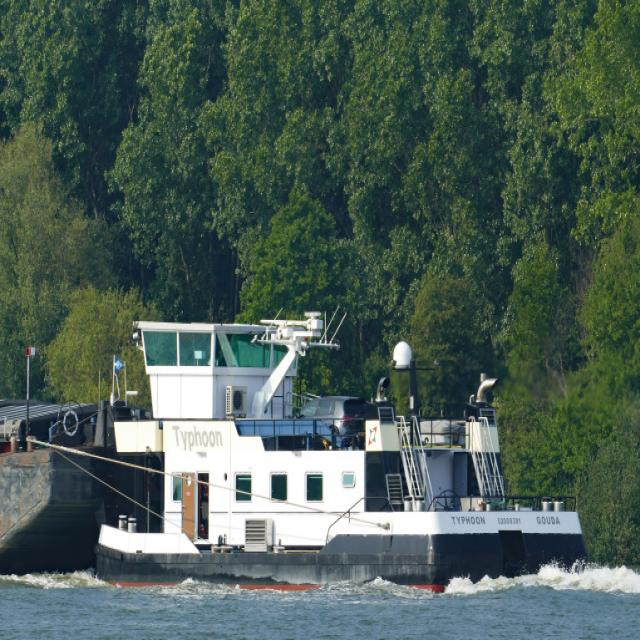tugboat: (92, 298, 590, 608)
